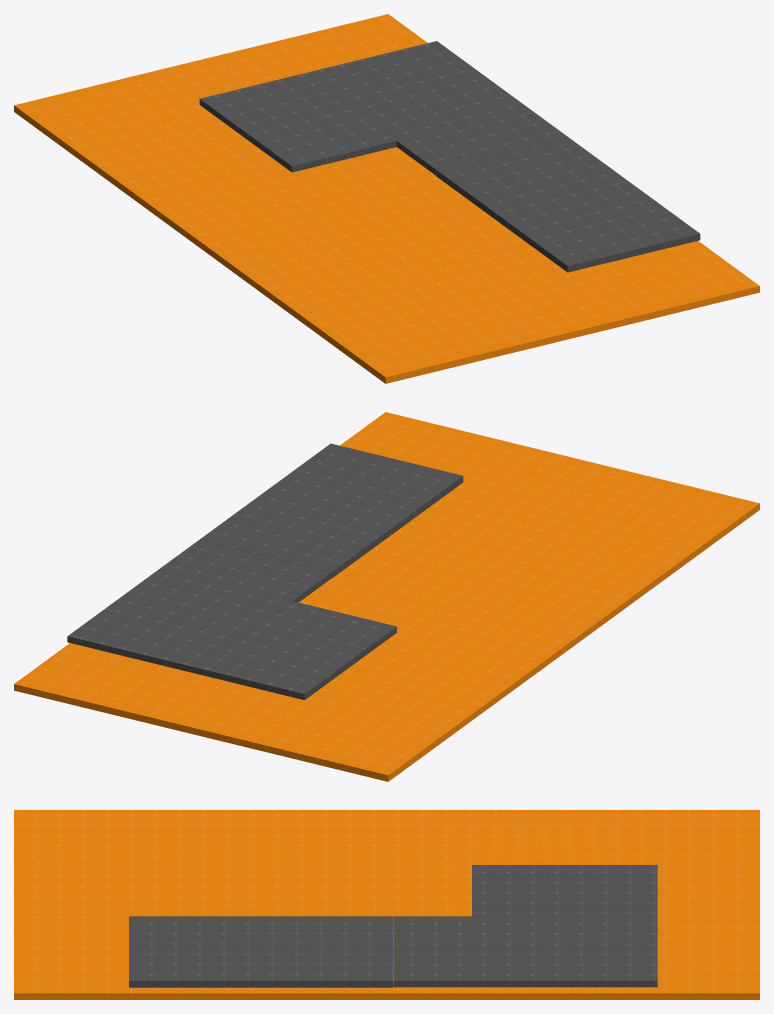
The model's file is shiphallway7.glb.
3 renders of one model, top to bottom at view 1: azimuth 30°, elevation 25°; view 2: azimuth 150°, elevation 25°; view 3: azimuth 270°, elevation 25°, orthographic.
Visible parts, largest first — view 1: floorC; view 2: floorC; view 3: floorC.
Part boxes in pixels (x1,y1,x2,y2): floorC: [14, 14, 759, 383]; floorC: [14, 412, 759, 781]; floorC: [14, 810, 759, 999].
Bounding box in the file's own units: 17.89 × 0.8042 × 30.77.
2 materials, 2 textured.
